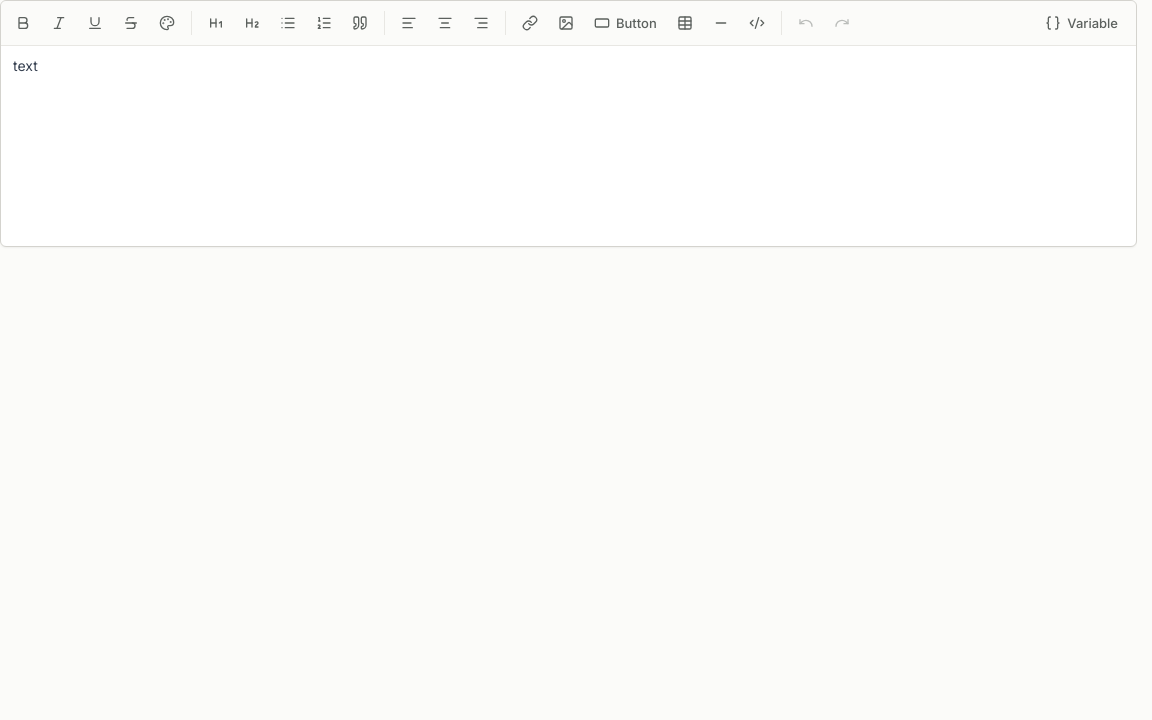
Test: RichTextEditor › opens a link dialog instead of a browser prompt
Click the button named "Link": (530, 23) [514,7,546,39]
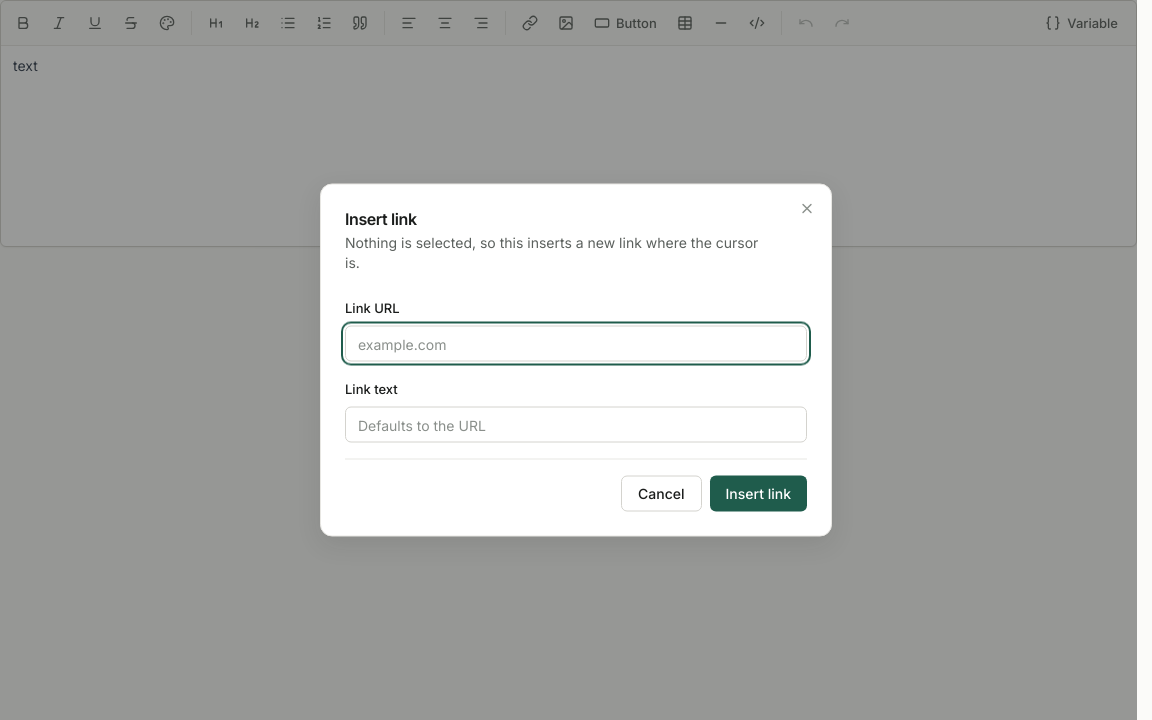
In the field labelled "Link URL": (576, 344) [345,326,807,362], type "https://example.com"
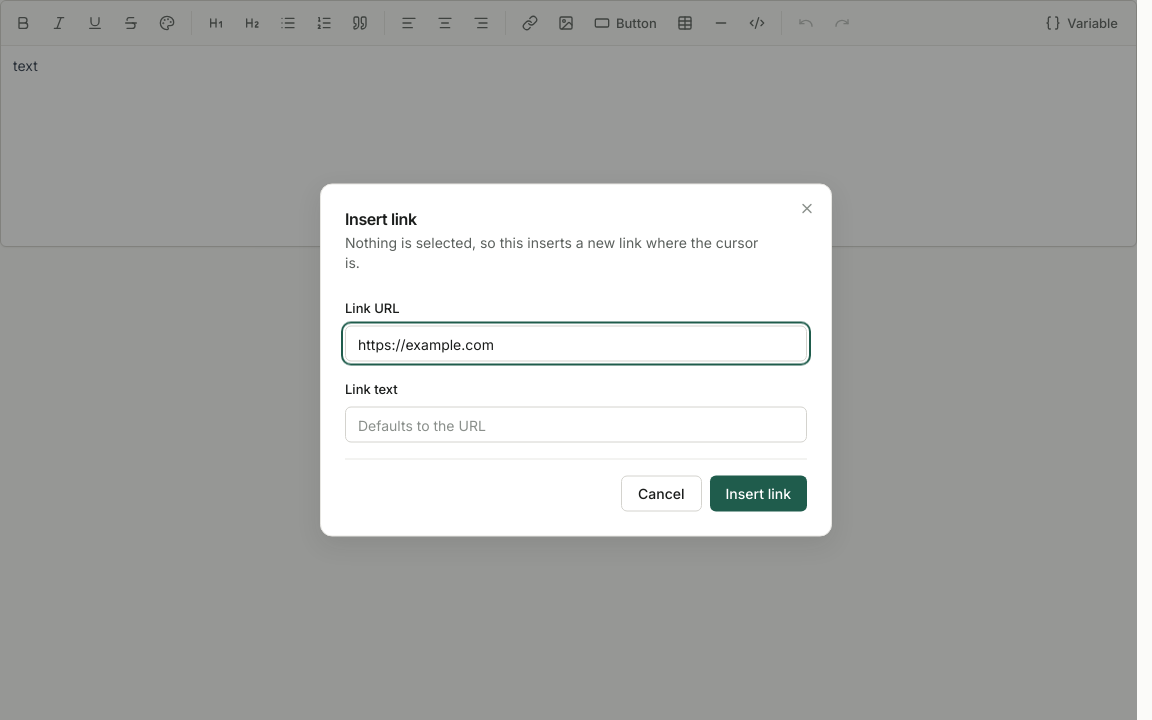
Click the button "Insert link": (758, 494) [710,476,807,512]
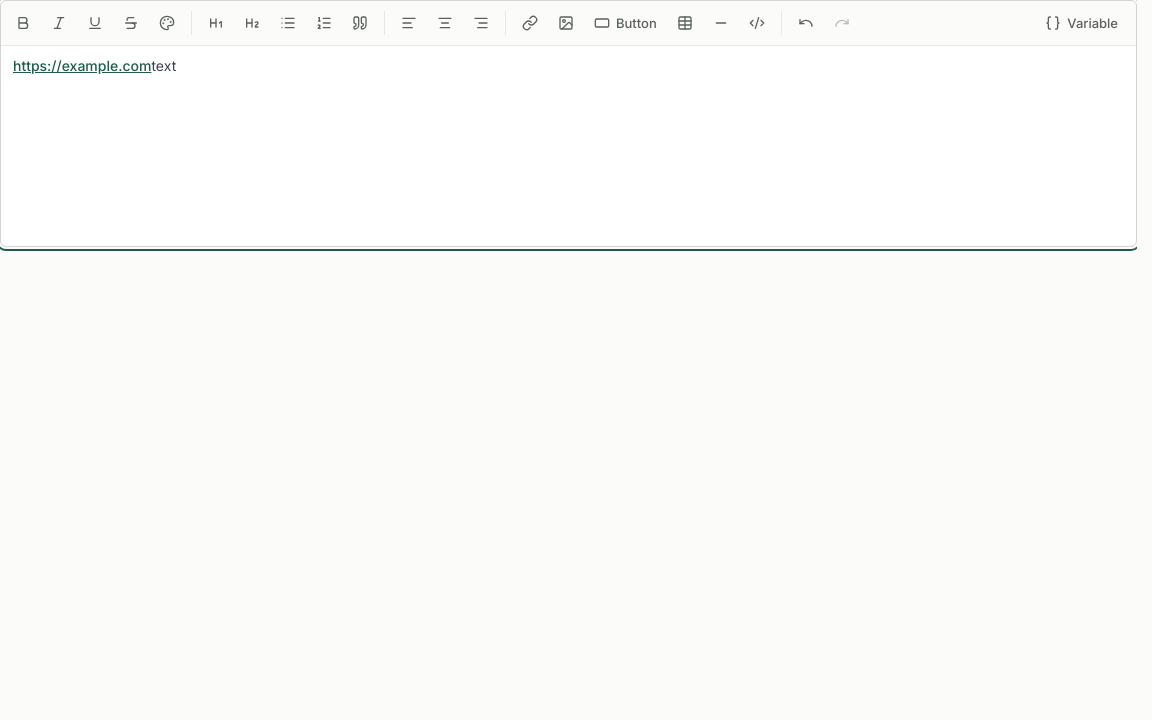
Now the label labelled "Link URL" is gone
